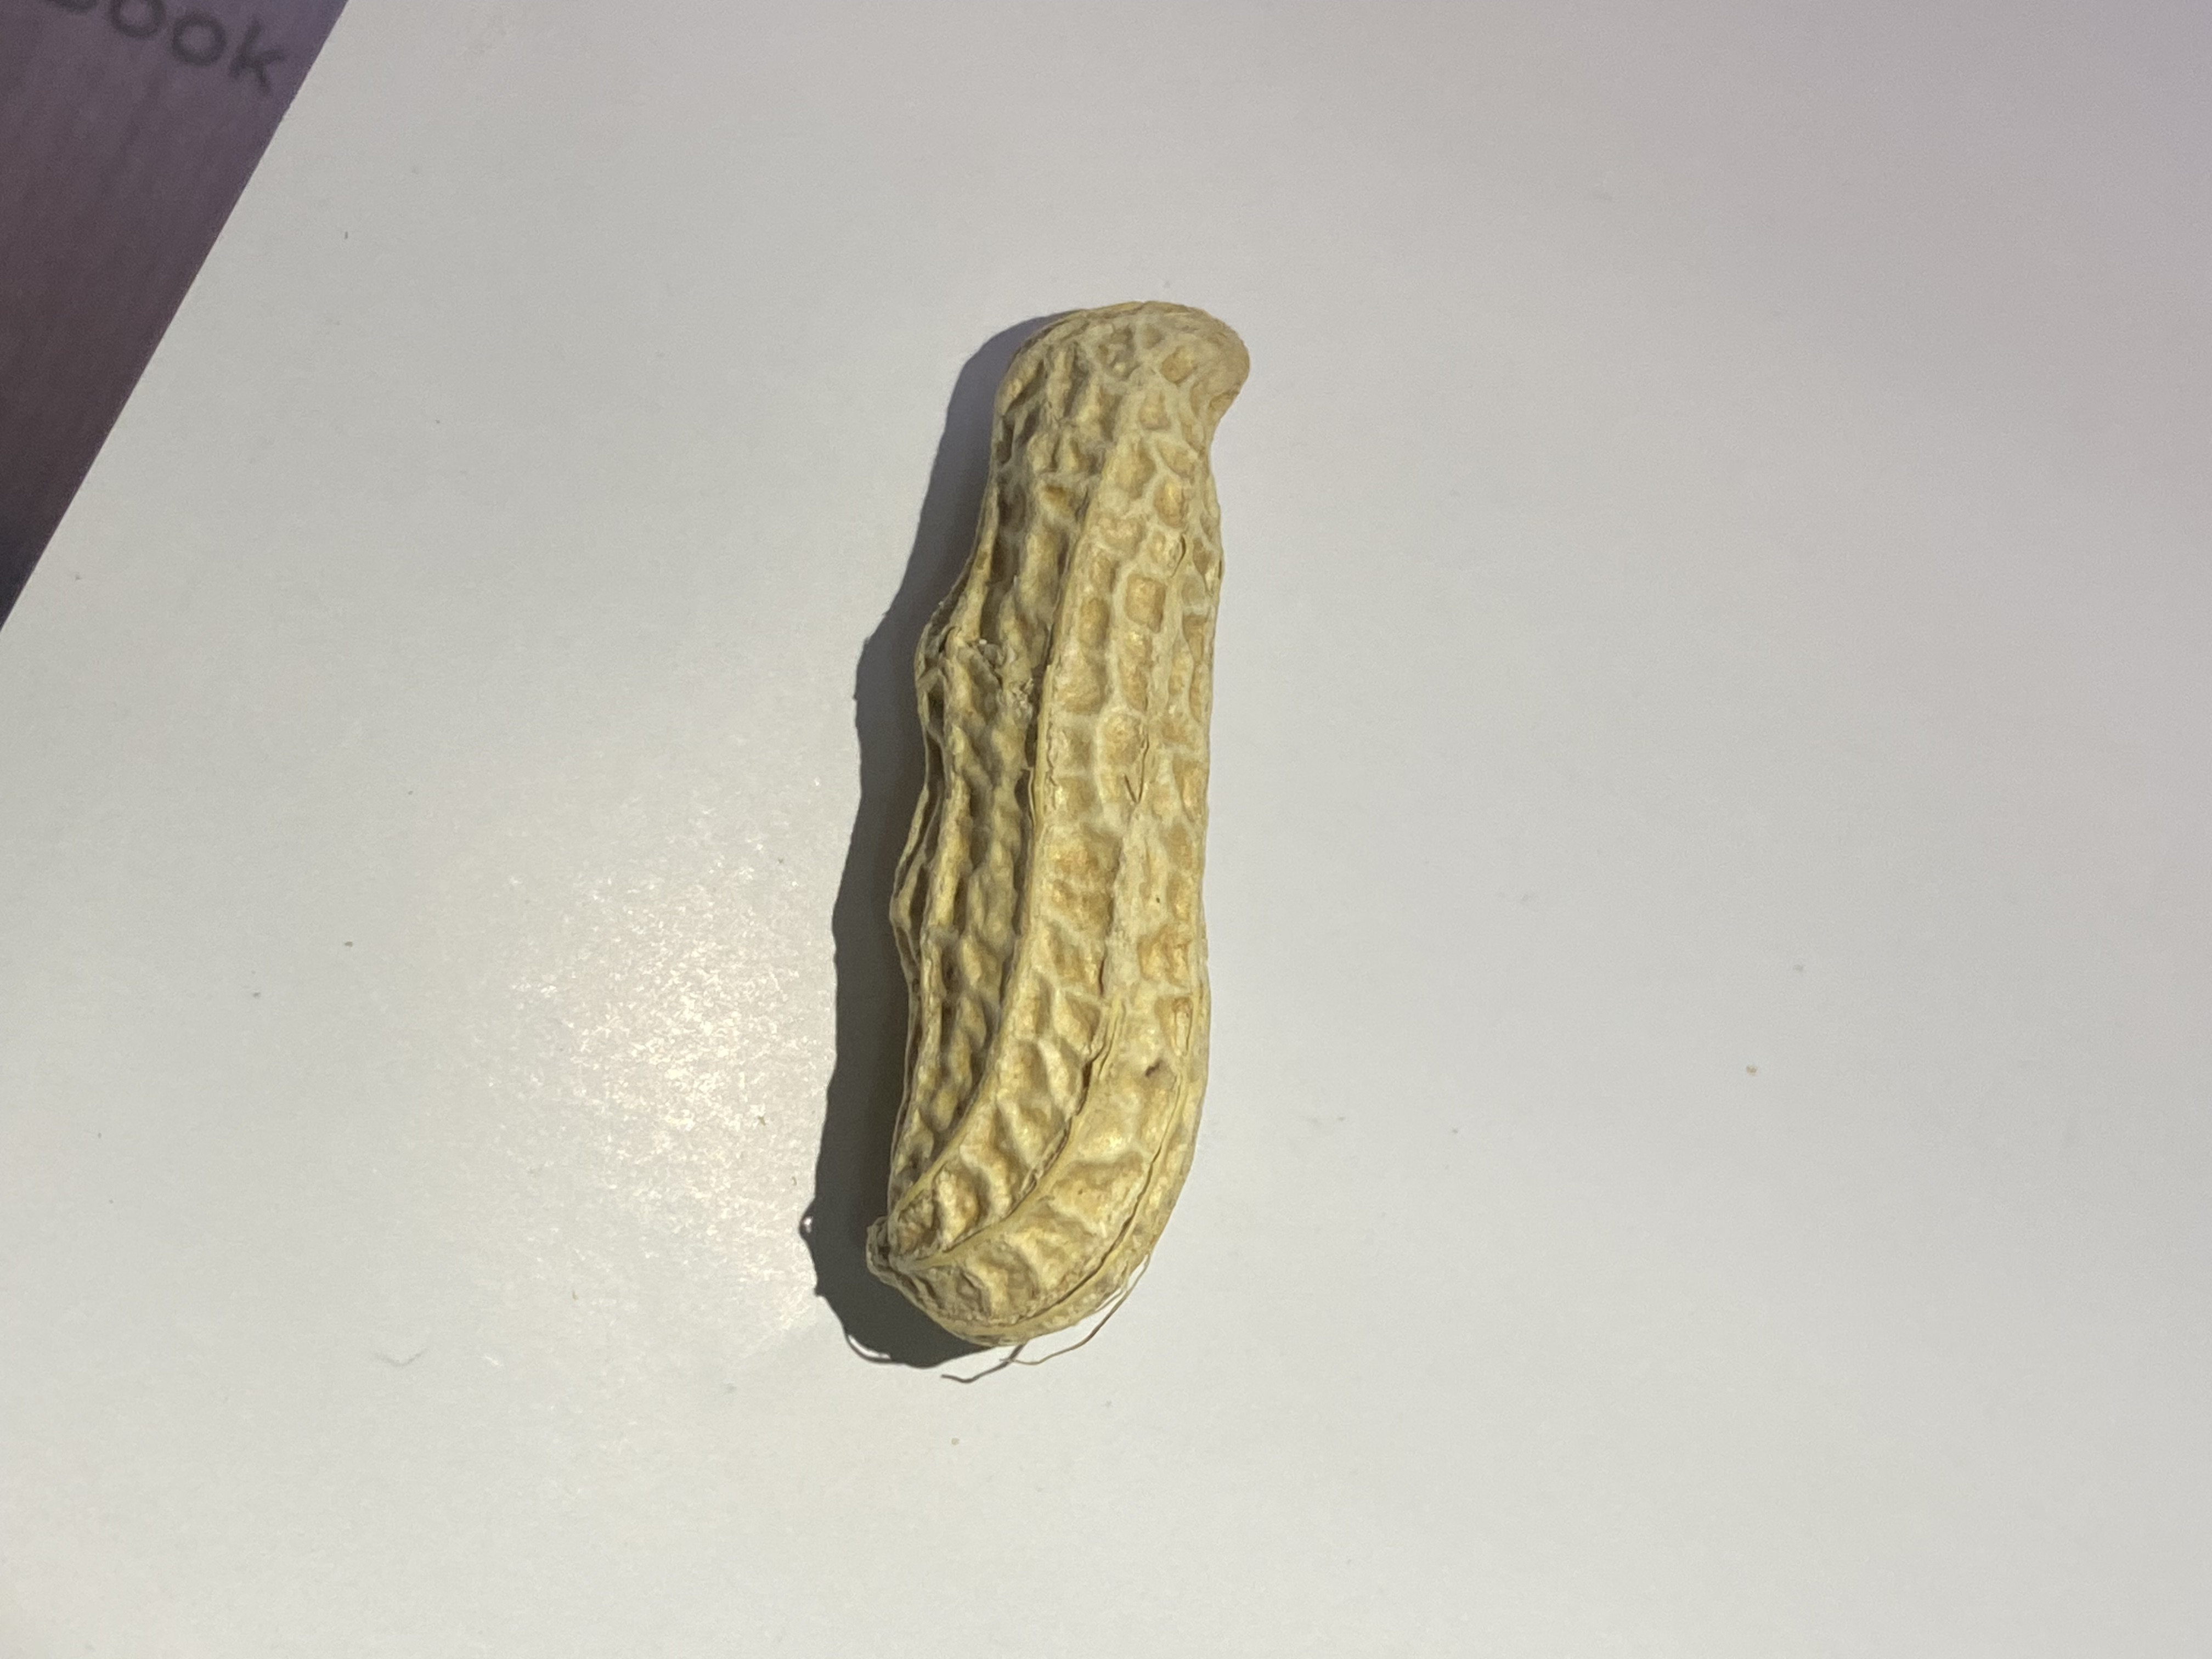kacang3: (831, 239, 1308, 1359)
